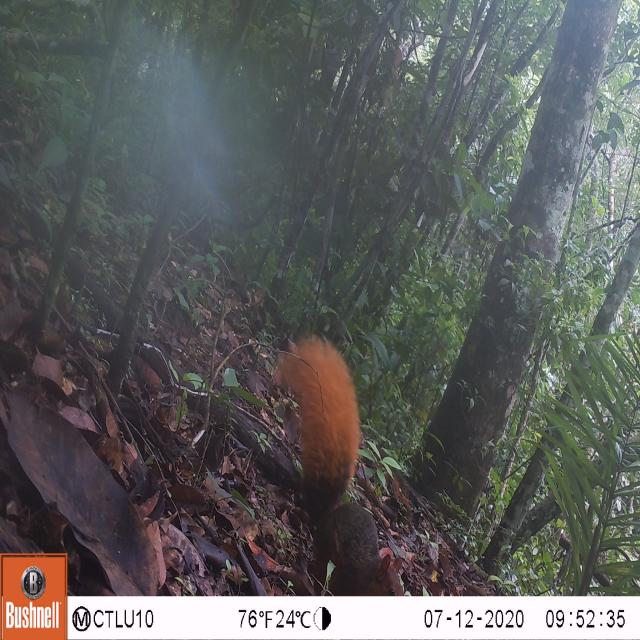Squirrel: (259, 328, 424, 595)
